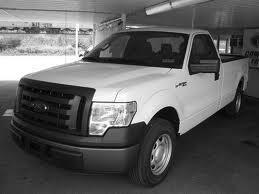car: (7, 23, 254, 191)
